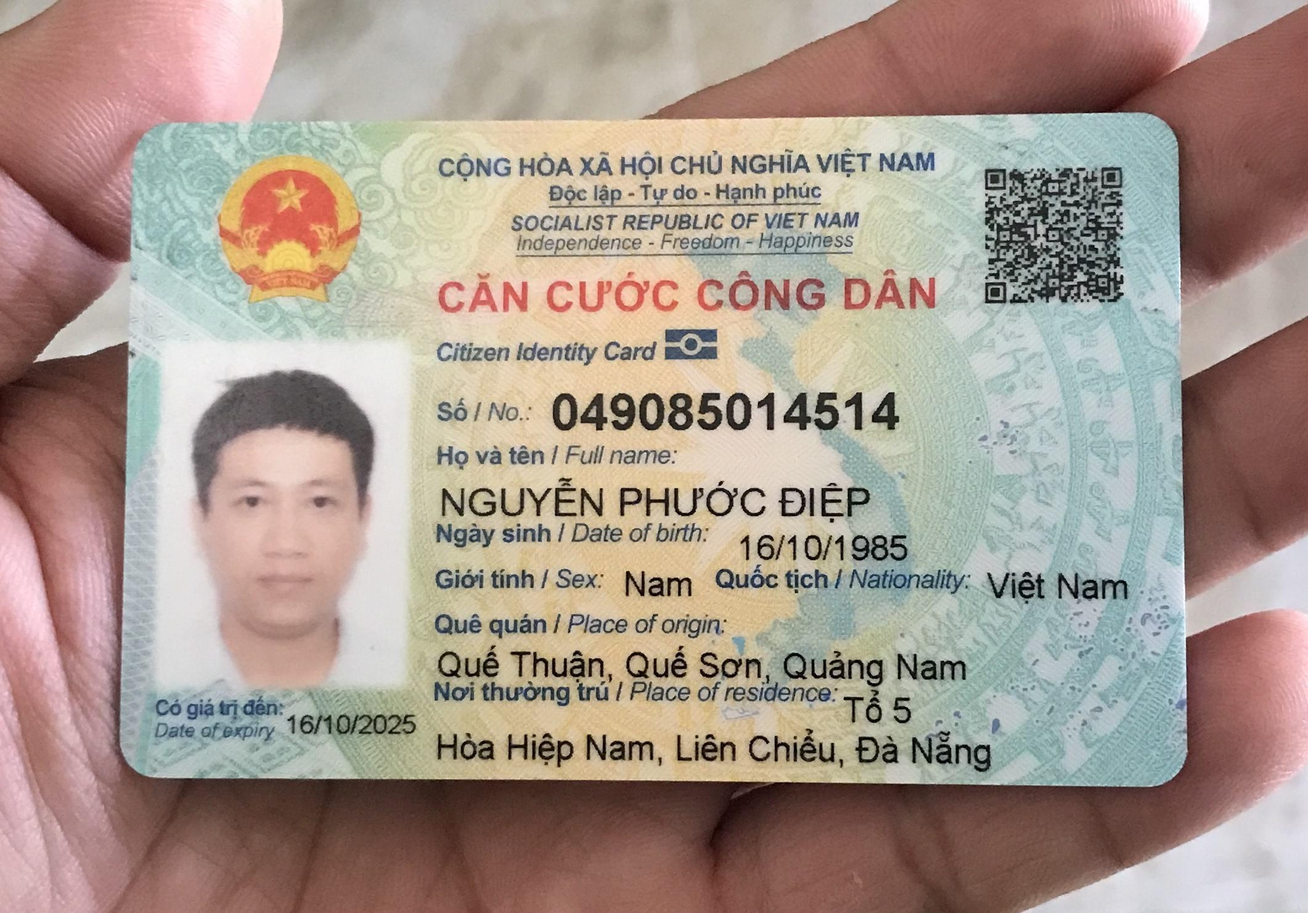ID: (538, 375, 913, 445)
birth: (726, 530, 925, 568)
name: (423, 474, 880, 523)
place: (432, 641, 999, 684)
residence: (435, 720, 1013, 778), (837, 690, 938, 727)
